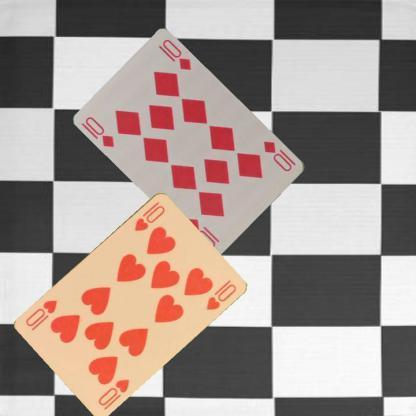10d: (82, 113, 116, 148), (261, 138, 294, 173)
10h: (132, 198, 166, 232), (95, 376, 130, 407)
